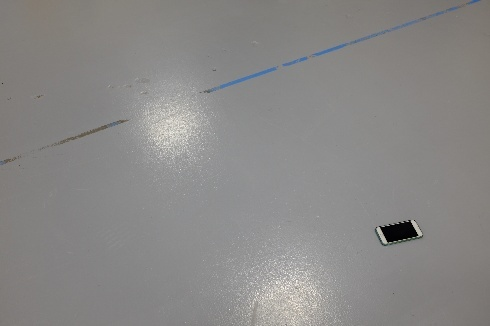phone: (375, 215, 424, 247)
